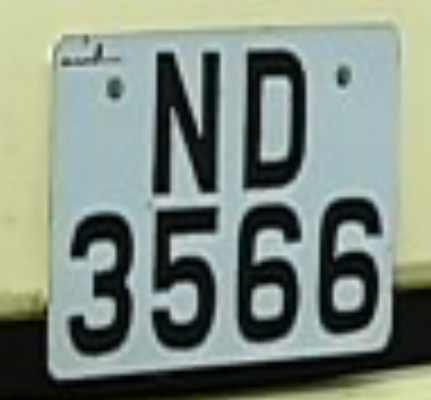3: (51, 197, 148, 367)
5: (140, 199, 235, 364)
6: (220, 196, 311, 352), (303, 189, 388, 346)
D: (220, 39, 322, 206)
N: (142, 42, 234, 206)
